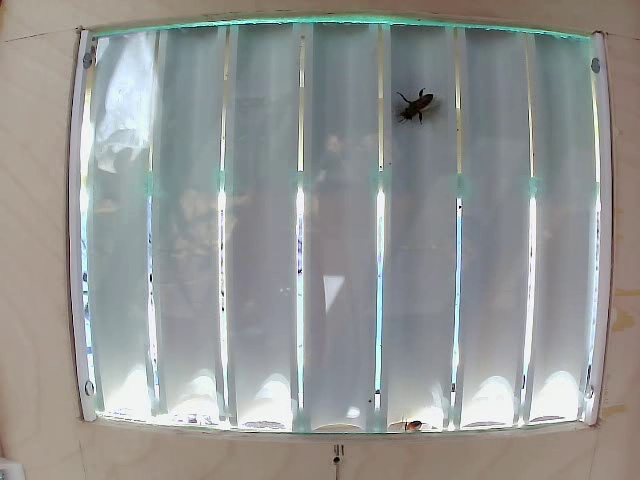bee: (388, 79, 447, 155)
